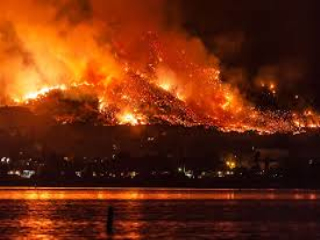fire: (12, 80, 90, 104), (155, 77, 187, 100), (115, 111, 146, 127), (224, 156, 242, 174), (266, 81, 276, 91)
smoke: (88, 6, 222, 64)
